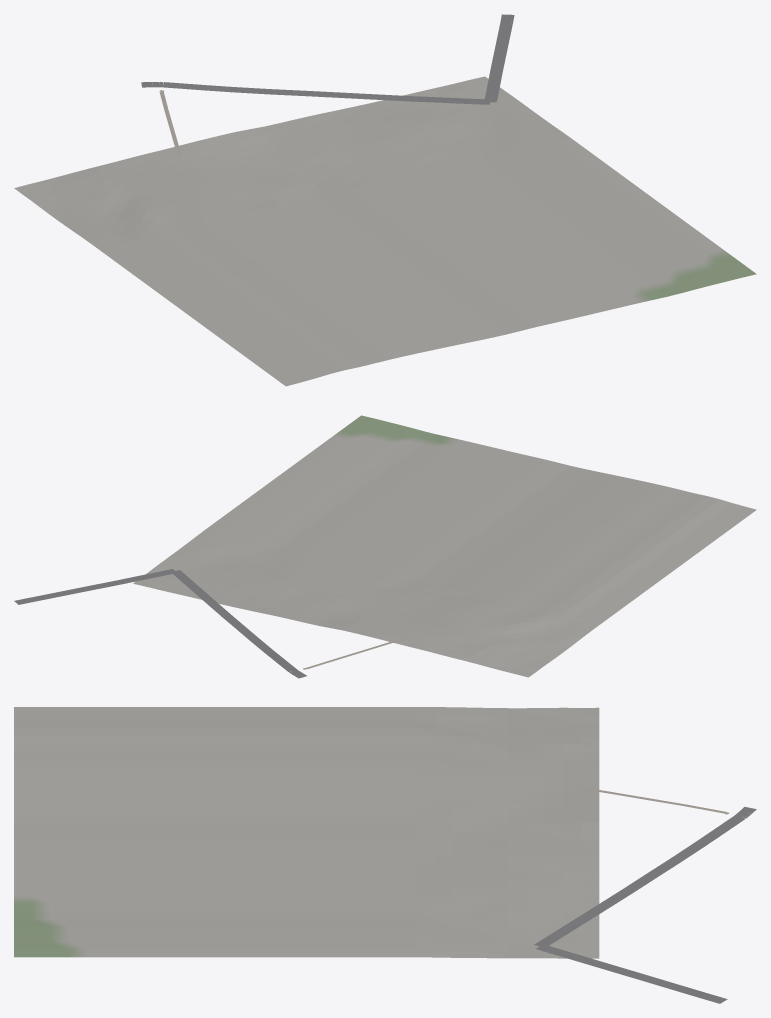
File: tile_-5_7.glb
The picture shows the model from 3 angles, top to bottom: view 1: azimuth 30°, elevation 25°; view 2: azimuth 150°, elevation 25°; view 3: azimuth 270°, elevation 25°; orthographic projection. The views are drawn at different scales.
Visible parts, largest first — view 1: terrain, roads; view 2: terrain, roads; view 3: terrain, roads.
Boxes of the visible parts, box(x1,y1,x2,y2) form: terrain: box(14, 76, 756, 386); roads: box(141, 14, 514, 154); terrain: box(133, 415, 756, 677); roads: box(14, 569, 405, 678); terrain: box(14, 707, 599, 958); roads: box(534, 787, 756, 1003).
Size of the model in its own units: 302 by 3.66 by 325.
